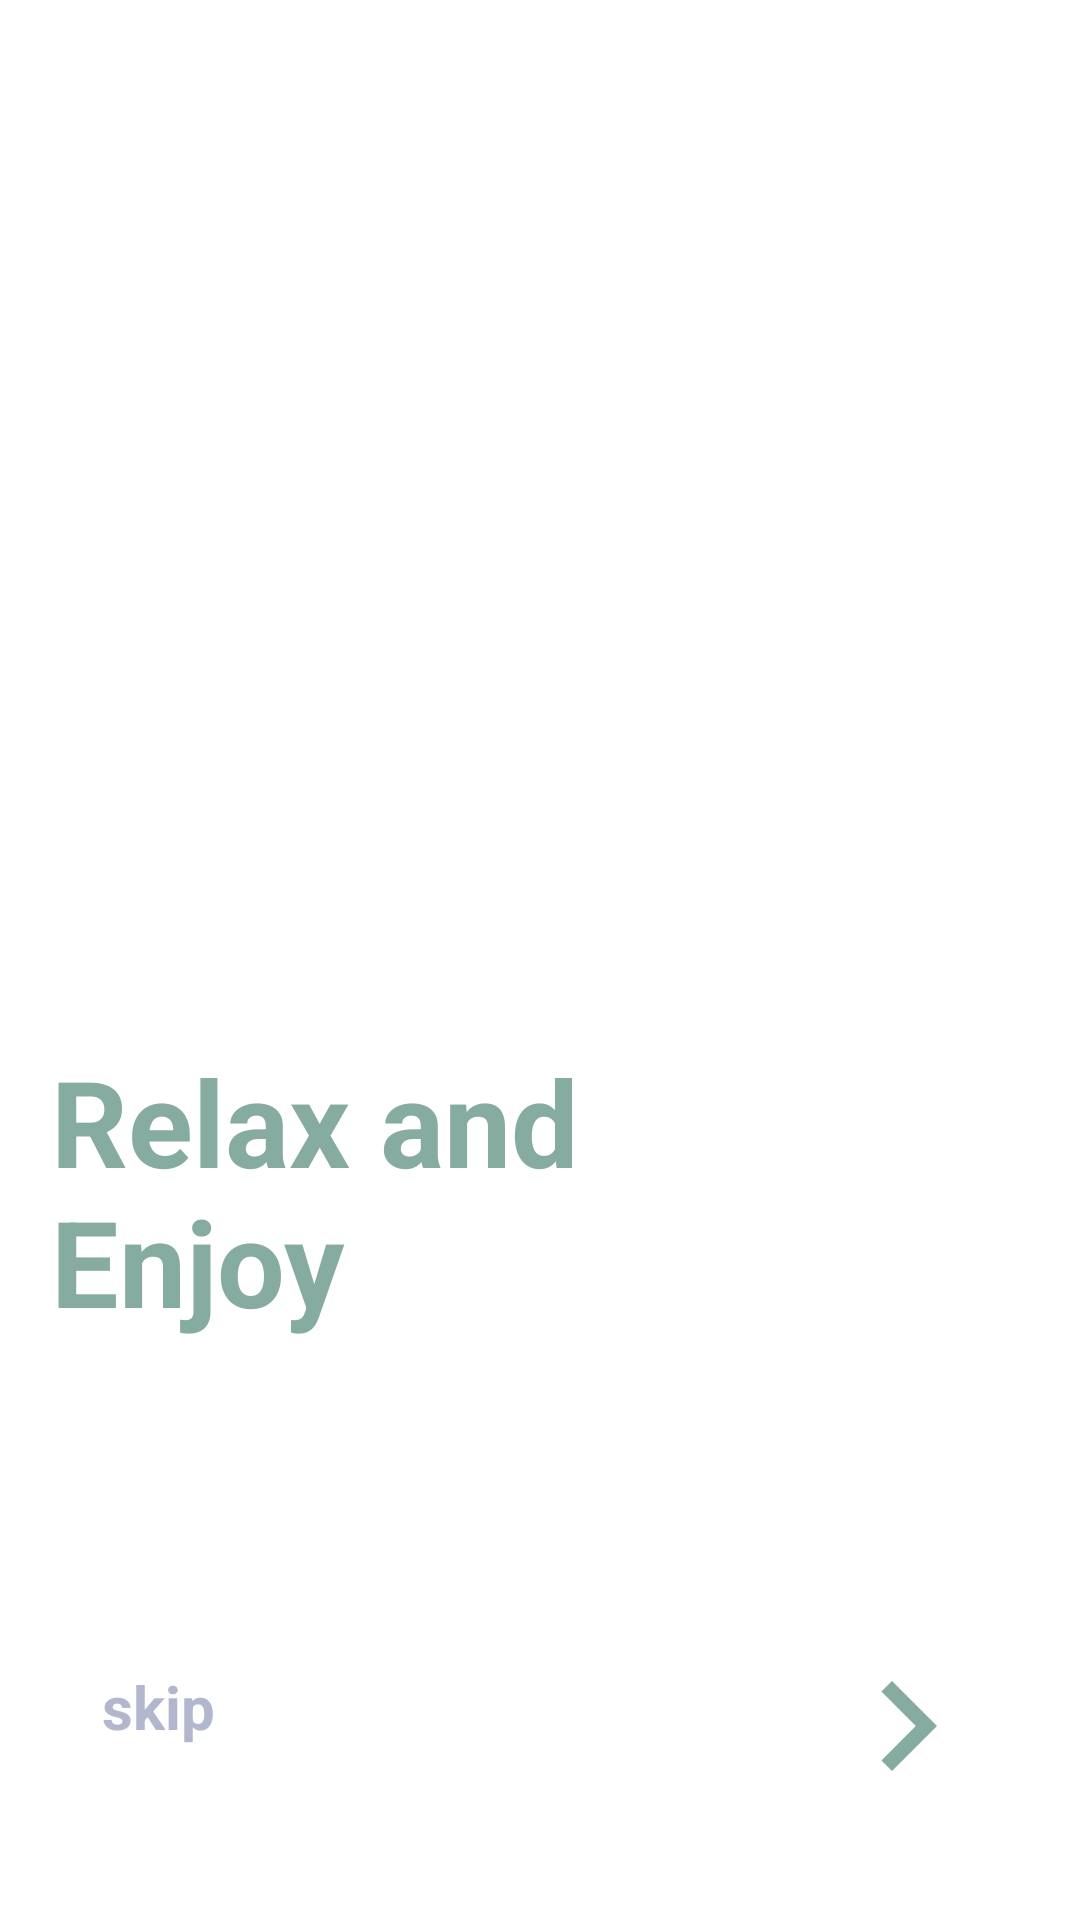

Locate icon controls on the screen. Image size 1080 x 1920, boxes as {"left": x1, "top": y1, "right": x2, "bottom": y2}.
navigate next: {"left": 881, "top": 1681, "right": 937, "bottom": 1771}
